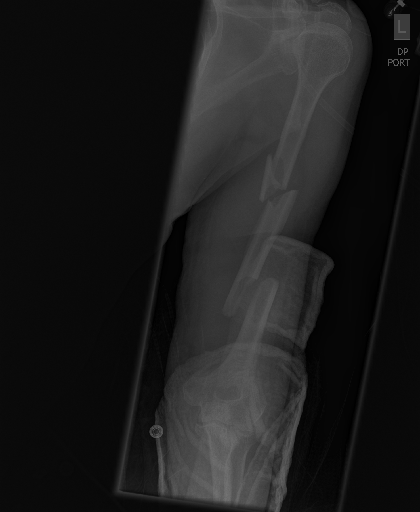fracture: (212, 258, 286, 323), (244, 150, 303, 228)
